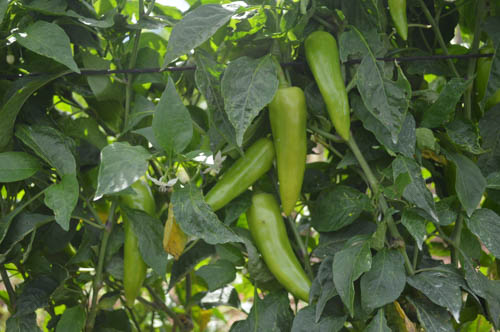ChiliPepper: (250, 195, 313, 298), (269, 87, 308, 217), (206, 140, 275, 213), (307, 31, 351, 138), (123, 181, 154, 307)
